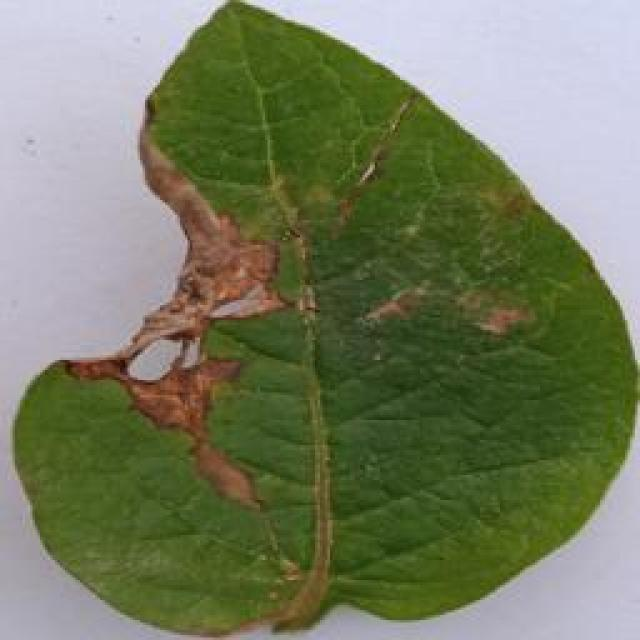Potato_Late_Blight: (12, 3, 624, 634)
